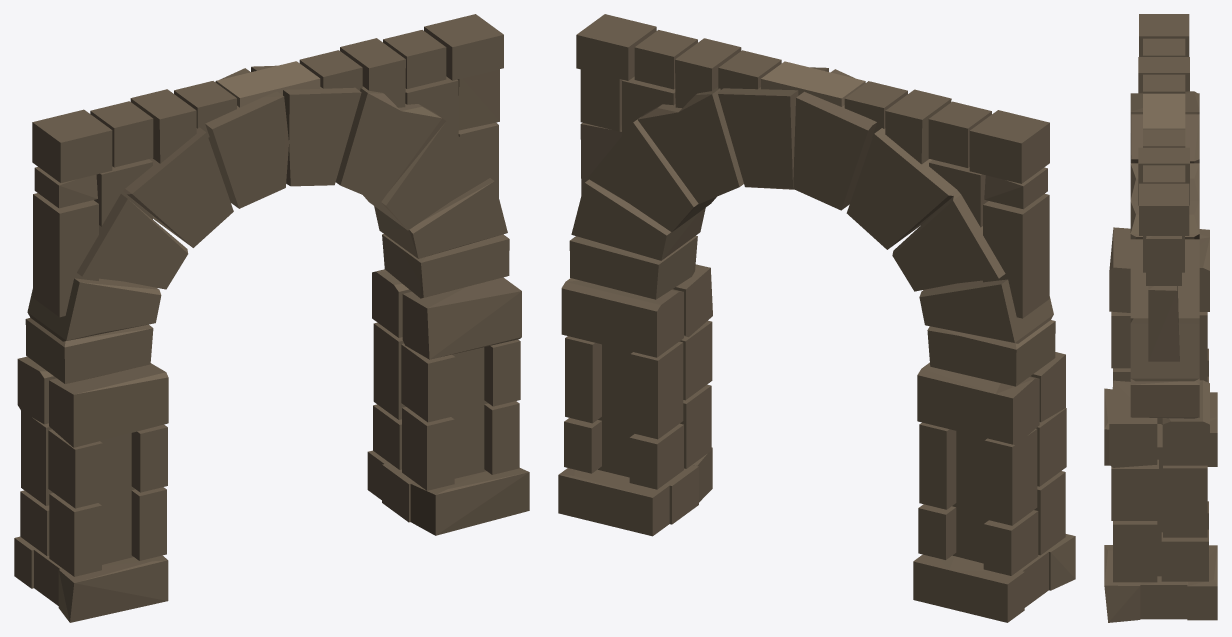
Rendered from rock_arch_1.glb.
3 views of the same model, side by side, from view 1: azimuth 30°, elevation 25°; view 2: azimuth 150°, elevation 25°; view 3: azimuth 270°, elevation 25° (orthographic). The views are drawn at different scales.
Parts seen in each view (by area): view 1: rock_arch_1; view 2: rock_arch_1; view 3: rock_arch_1.
Part boxes in pixels (x1,y1,x2,y2): rock_arch_1: [14, 14, 529, 622]; rock_arch_1: [558, 14, 1075, 622]; rock_arch_1: [1104, 14, 1217, 622].
Size of the model in its own units: 5.12 by 4.95 by 1.23.
